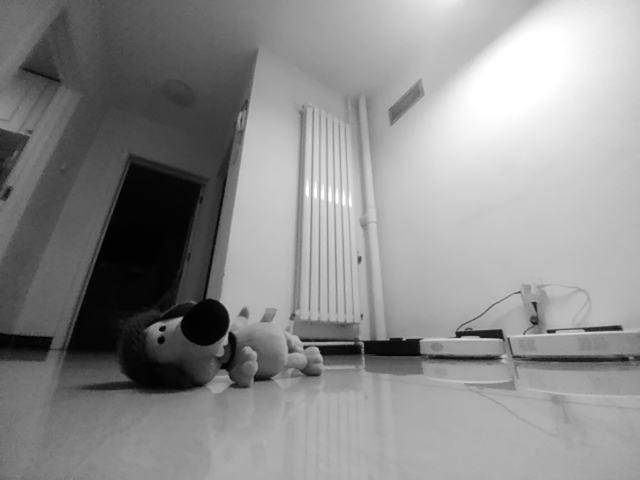toy: (119, 298, 326, 391)
